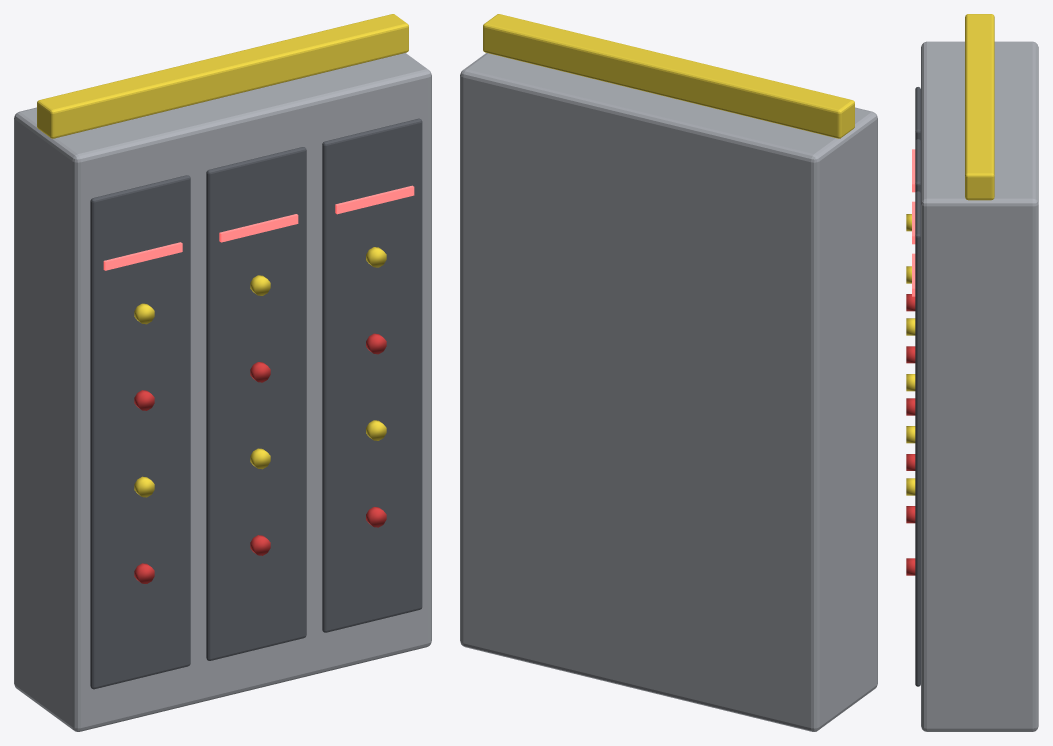
Rendered from engineering_station_power_panel.glb.
The picture shows the model from 3 angles, left to right: view 1: azimuth 30°, elevation 25°; view 2: azimuth 150°, elevation 25°; view 3: azimuth 270°, elevation 25°; orthographic projection. The views are drawn at different scales.
Visible parts, largest first — view 1: GD_engineering_station_power_panel__m1, GD_engineering_station_power_panel__m0, GD_engineering_station_power_panel__m2, GD_engineering_station_power_panel__m4, GD_engineering_station_power_panel__m3; view 2: GD_engineering_station_power_panel__m0, GD_engineering_station_power_panel__m2; view 3: GD_engineering_station_power_panel__m0, GD_engineering_station_power_panel__m2, GD_engineering_station_power_panel__m1, GD_engineering_station_power_panel__m3, GD_engineering_station_power_panel__m4.
Part boxes in pixels (x1,y1,x2,y2): GD_engineering_station_power_panel__m1: [90, 118, 422, 689]; GD_engineering_station_power_panel__m0: [14, 53, 431, 731]; GD_engineering_station_power_panel__m2: [37, 14, 408, 497]; GD_engineering_station_power_panel__m4: [103, 185, 414, 270]; GD_engineering_station_power_panel__m3: [134, 333, 386, 583]; GD_engineering_station_power_panel__m0: [460, 53, 877, 731]; GD_engineering_station_power_panel__m2: [483, 14, 854, 138]; GD_engineering_station_power_panel__m0: [921, 41, 1038, 731]; GD_engineering_station_power_panel__m2: [906, 14, 994, 495]; GD_engineering_station_power_panel__m1: [915, 87, 920, 686]; GD_engineering_station_power_panel__m3: [906, 294, 915, 575]; GD_engineering_station_power_panel__m4: [912, 149, 915, 296].
Size of the model in its own units: 1.3 by 2.1 by 0.45.
